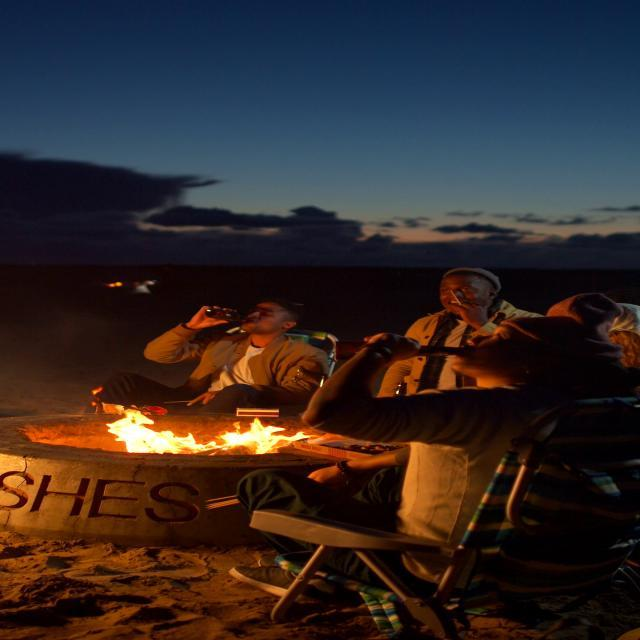Fire: (96, 405, 311, 454)
